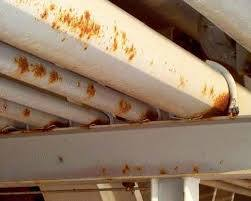Low: (41, 3, 140, 62), (85, 79, 162, 123), (6, 46, 67, 85), (2, 102, 70, 136)
Moderate: (191, 93, 241, 123)
